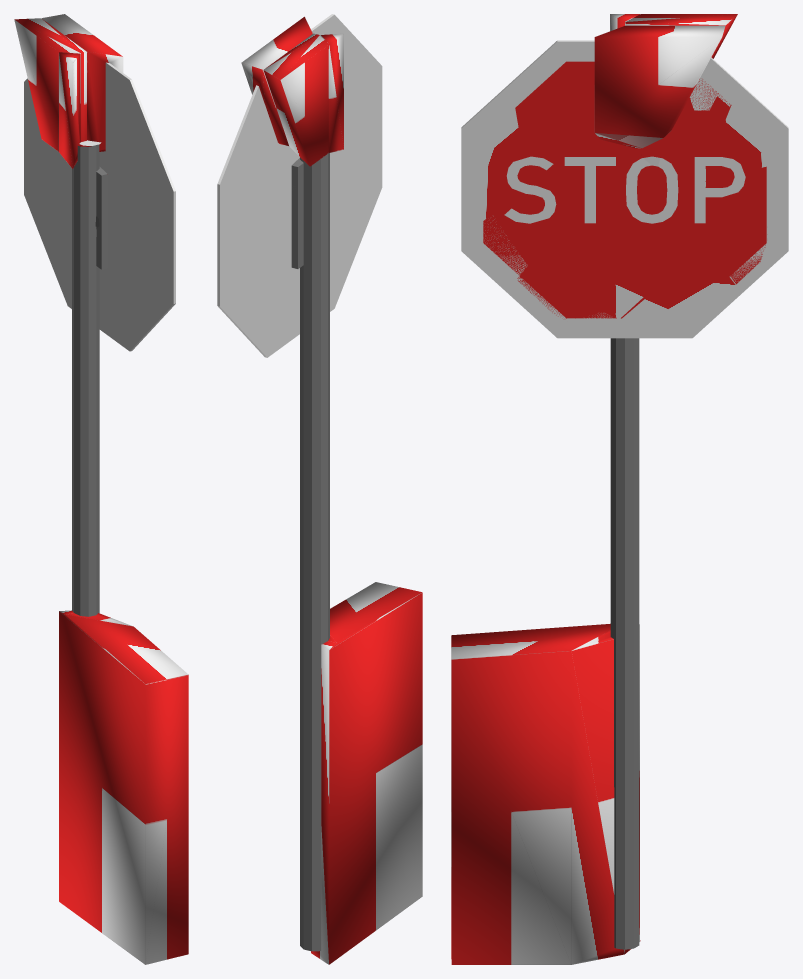
Rendered from stop_sign_chunks.glb.
The picture shows the model from 3 angles, left to right: view 1: azimuth 30°, elevation 25°; view 2: azimuth 150°, elevation 25°; view 3: azimuth 270°, elevation 25°; orthographic projection. The views are drawn at different scales.
Parts seen in each view (by area): view 1: Stop_Sign.001_cell.020, Stop_Sign.008, Stop_Sign.001_cell.029, Stop_Sign.002, Stop_Sign.001_cell.018, Stop_Sign.001_cell.010, Stop_Sign.001_cell.022, Stop_Sign.001_cell.003, Stop_Sign.001_cell.009, Stop_Sign.001_cell.005, Stop_Sign.001_cell.015, Stop_Sign.001_cell.021 (+4 smaller); view 2: Stop_Sign.001_cell.020, Stop_Sign.008, Stop_Sign.002, Stop_Sign.001_cell.024, Stop_Sign.001_cell.018, Stop_Sign.001_cell.014, Stop_Sign.001_cell.010, Stop_Sign.001_cell.003, Stop_Sign.001_cell.029, Stop_Sign.001_cell.005, Stop_Sign.001_cell.009, Stop_Sign.001_cell.008 (+3 smaller); view 3: Stop_Sign.001_cell.020, Stop_Sign.009, Stop_Sign.002, Stop_Sign.001_cell.010, Stop_Sign.008, Stop_Sign.001_cell.030, Stop_Sign.001_cell.029, Stop_Sign.001_cell.031, Stop_Sign.001_cell.002, Stop_Sign.001_cell.019, Stop_Sign.001_cell.017, Stop_Sign.001_cell.015 (+9 smaller).
Part boxes in pixels (x1=…): Stop_Sign.001_cell.020: x1=59, y1=610, x2=188, y2=964; Stop_Sign.008: x1=24, y1=62, x2=175, y2=351; Stop_Sign.001_cell.029: x1=74, y1=300, x2=159, y2=616; Stop_Sign.002: x1=72, y1=144, x2=107, y2=616; Stop_Sign.001_cell.018: x1=14, y1=18, x2=86, y2=151; Stop_Sign.001_cell.010: x1=42, y1=14, x2=123, y2=151; Stop_Sign.001_cell.022: x1=78, y1=63, x2=142, y2=162; Stop_Sign.001_cell.003: x1=59, y1=52, x2=80, y2=168; Stop_Sign.001_cell.009: x1=125, y1=115, x2=150, y2=224; Stop_Sign.001_cell.005: x1=24, y1=113, x2=53, y2=188; Stop_Sign.001_cell.015: x1=88, y1=229, x2=107, y2=318; Stop_Sign.001_cell.021: x1=99, y1=207, x2=138, y2=260; Stop_Sign.001_cell.020: x1=311, y1=582, x2=422, y2=964; Stop_Sign.008: x1=217, y1=30, x2=382, y2=346; Stop_Sign.002: x1=291, y1=153, x2=329, y2=951; Stop_Sign.001_cell.024: x1=255, y1=346, x2=327, y2=644; Stop_Sign.001_cell.018: x1=263, y1=33, x2=328, y2=166; Stop_Sign.001_cell.014: x1=312, y1=645, x2=320, y2=951; Stop_Sign.001_cell.010: x1=241, y1=16, x2=312, y2=145; Stop_Sign.001_cell.003: x1=320, y1=33, x2=343, y2=152; Stop_Sign.001_cell.029: x1=328, y1=231, x2=364, y2=639; Stop_Sign.001_cell.005: x1=220, y1=209, x2=252, y2=268; Stop_Sign.001_cell.009: x1=330, y1=31, x2=357, y2=158; Stop_Sign.001_cell.008: x1=276, y1=199, x2=329, y2=231; Stop_Sign.001_cell.020: x1=451, y1=623, x2=640, y2=964; Stop_Sign.009: x1=483, y1=61, x2=766, y2=318; Stop_Sign.002: x1=610, y1=338, x2=639, y2=949; Stop_Sign.001_cell.010: x1=594, y1=25, x2=725, y2=148; Stop_Sign.008: x1=461, y1=41, x2=788, y2=338; Stop_Sign.001_cell.030: x1=461, y1=83, x2=527, y2=235; Stop_Sign.001_cell.029: x1=496, y1=276, x2=624, y2=639; Stop_Sign.001_cell.031: x1=619, y1=270, x2=741, y2=349; Stop_Sign.001_cell.002: x1=714, y1=85, x2=788, y2=176; Stop_Sign.001_cell.019: x1=673, y1=58, x2=738, y2=172; Stop_Sign.001_cell.017: x1=673, y1=206, x2=743, y2=273; Stop_Sign.001_cell.015: x1=545, y1=220, x2=610, y2=313.
Bounding box in the file's own units: 0.2759 × 5.15 × 1.69.
Materials: 1 (1 with a texture image).
